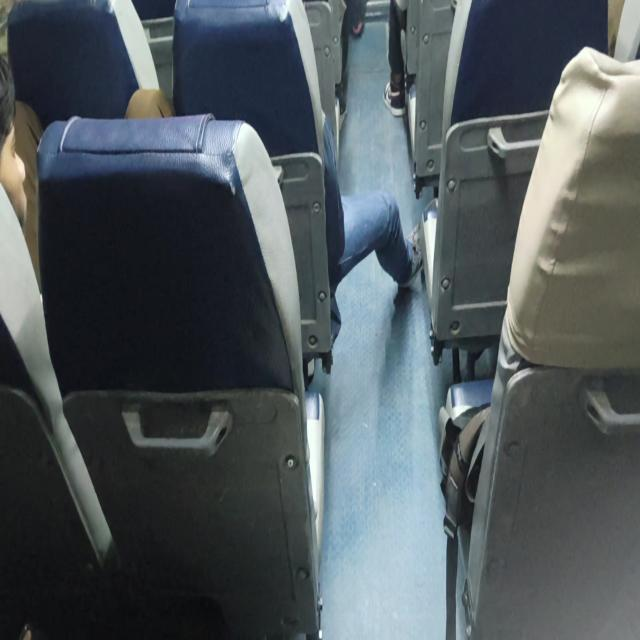person: (124, 0, 423, 354), (0, 53, 44, 292), (0, 54, 28, 235), (335, 0, 367, 116), (383, 0, 409, 118)
